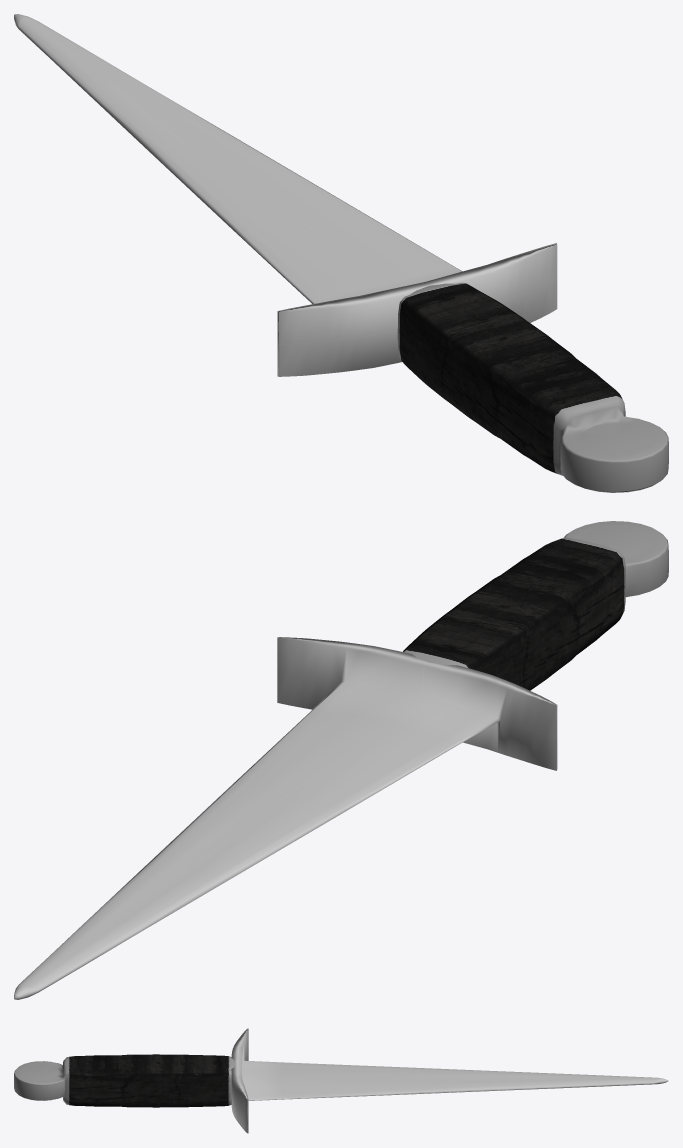
The model's file is 2dagger.glb.
3 renders of one model, top to bottom at view 1: azimuth 30°, elevation 25°; view 2: azimuth 150°, elevation 25°; view 3: azimuth 270°, elevation 25°, orthographic. The views are drawn at different scales.
Visible parts, largest first — view 1: Object_2, Object_3; view 2: Object_2, Object_3; view 3: Object_2, Object_3.
Part boxes in pixels (box(x1,y1,x2,y2)): Object_2: box(14, 14, 557, 376); Object_3: box(397, 282, 668, 492); Object_2: box(14, 637, 557, 999); Object_3: box(403, 521, 668, 690); Object_2: box(231, 1028, 668, 1133); Object_3: box(14, 1054, 235, 1107).
Bounding box in the file's own units: 89.15 × 20.99 × 347.
2 materials, 2 textured.
